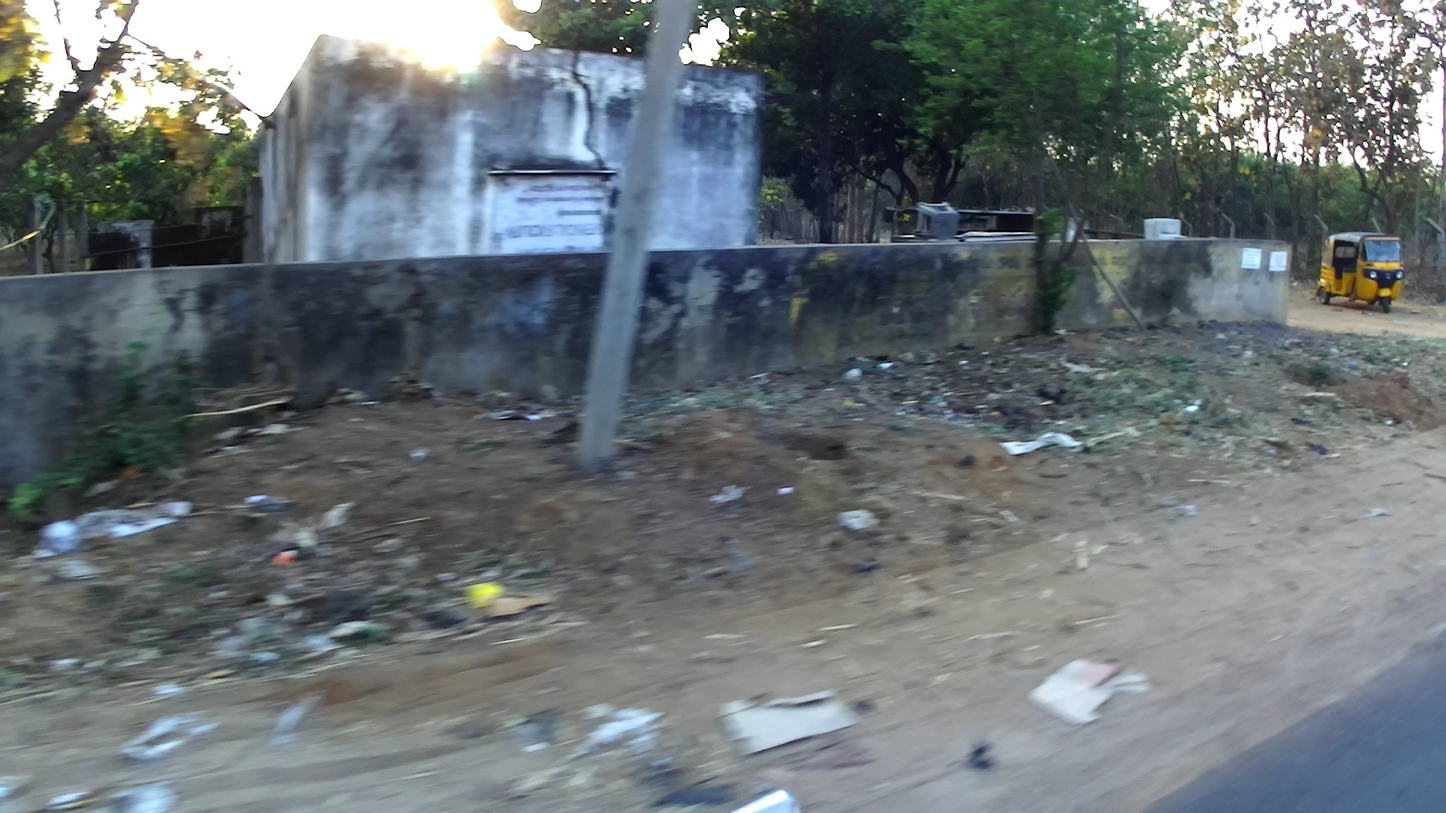autorickshaw: (1313, 230, 1407, 313)
